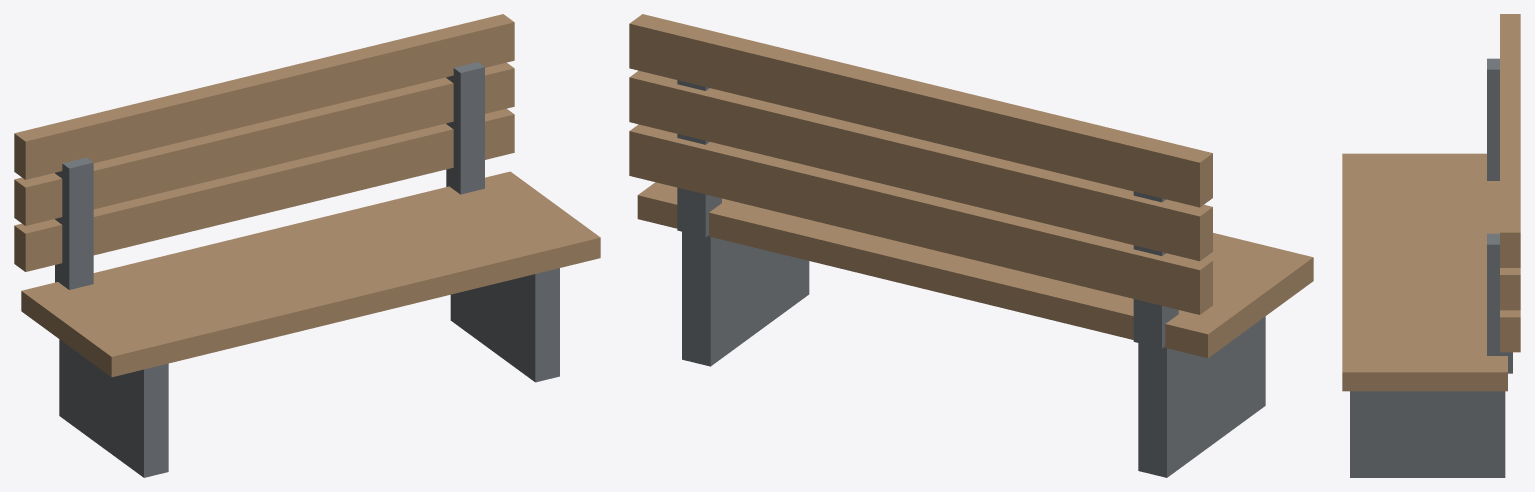
File: bench.glb
3 renders of one model, left to right at view 1: azimuth 30°, elevation 25°; view 2: azimuth 150°, elevation 25°; view 3: azimuth 270°, elevation 25°, orthographic. The views are drawn at different scales.
Parts seen in each view (by area): view 1: bench; view 2: bench; view 3: bench.
Part boxes in pixels (x1,y1,x2,y2): bench: (14,14,600,477); bench: (629,14,1313,477); bench: (1342,14,1520,477).
Bounding box in the file's own units: 2 × 1.12 × 0.69.
